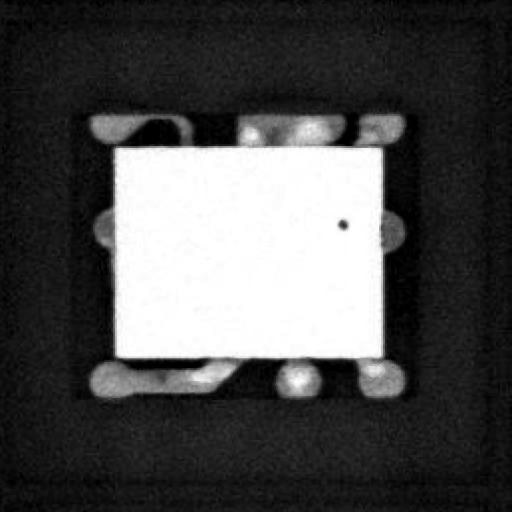DIE_INK: (317, 222, 332, 244)
